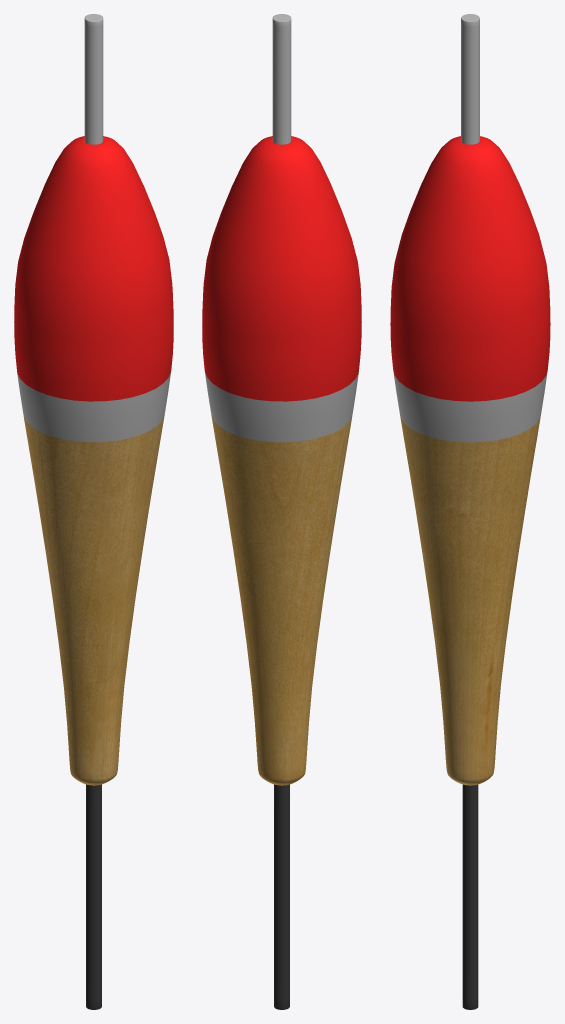
Rendered from float_03.fbx.
The picture shows the model from 3 angles, left to right: view 1: azimuth 30°, elevation 25°; view 2: azimuth 150°, elevation 25°; view 3: azimuth 270°, elevation 25°; orthographic projection.
Parts seen in each view (by area): view 1: Float_03; view 2: Float_03; view 3: Float_03.
Boxes of the visible parts, <box> form: Float_03: <box>14,14,173,1009</box>; Float_03: <box>202,14,361,1009</box>; Float_03: <box>390,14,550,1009</box>.
Bounding box in the file's own units: 54.78 × 373 × 54.78.
